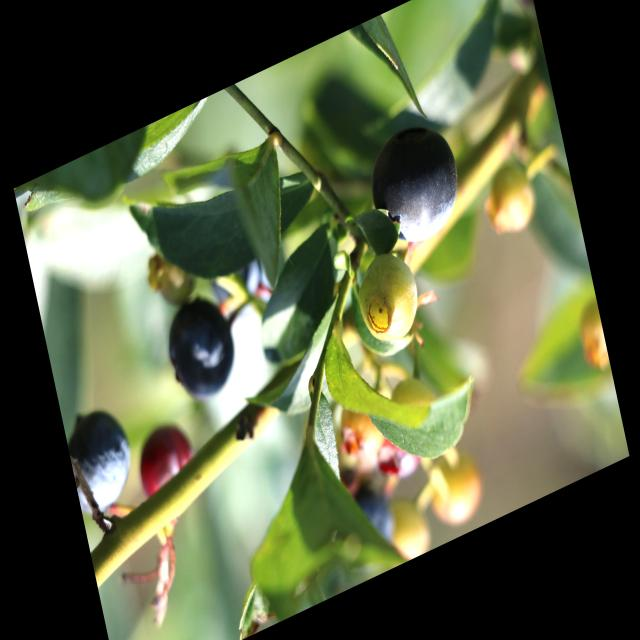blueberry: (361, 109, 469, 262), (160, 280, 244, 416), (63, 391, 149, 519)
blueberry-halfripe: (132, 416, 198, 504)
blueberry-unripe: (353, 248, 422, 352), (481, 158, 541, 242), (340, 404, 386, 464)
